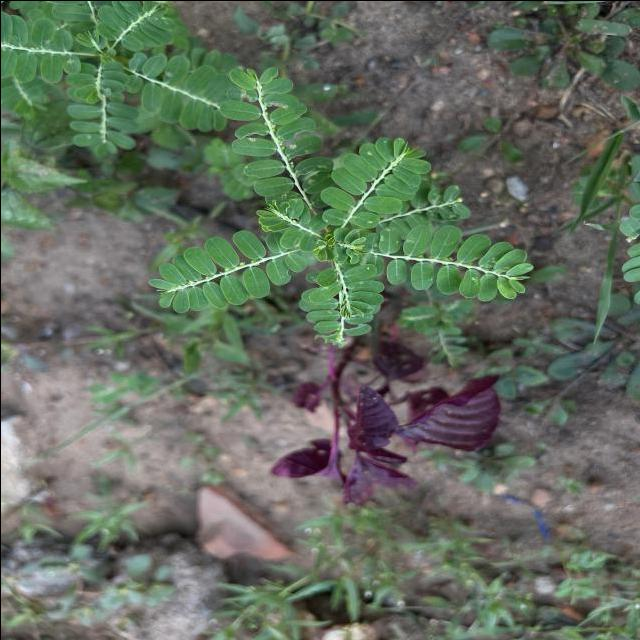Phyllanthus niruri: (217, 64, 334, 220), (139, 224, 303, 317), (368, 220, 536, 302), (318, 133, 436, 229), (292, 260, 386, 348)
